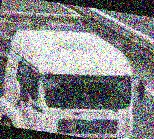truck: (0, 0, 150, 139)
